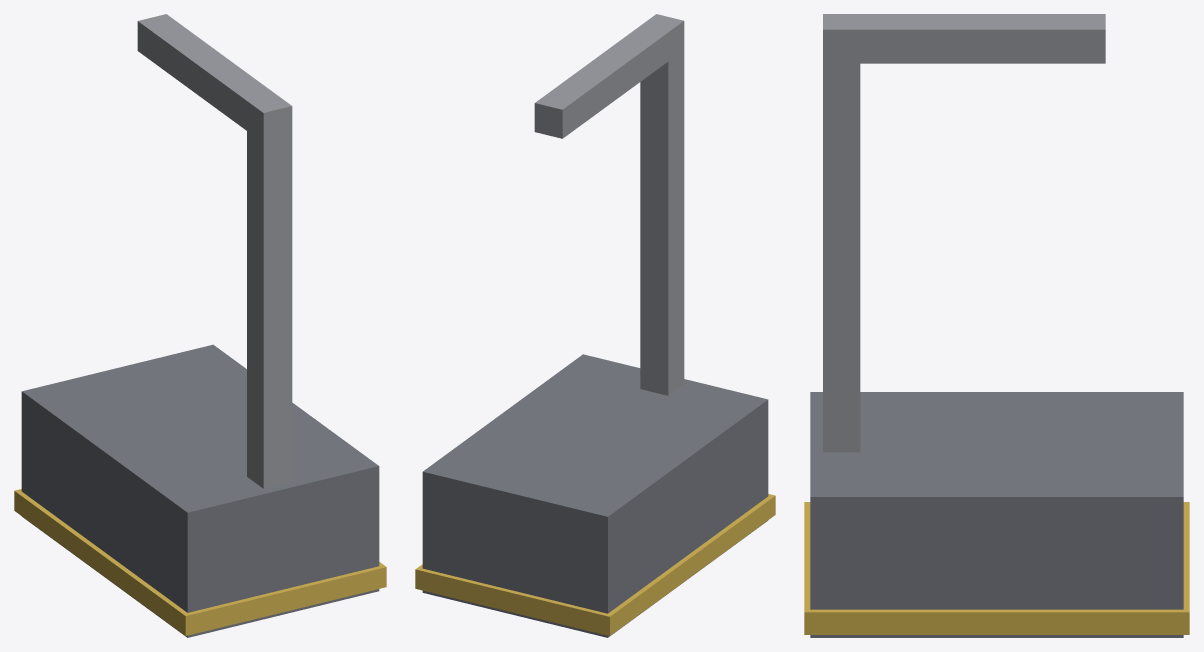
The model's file is AMR.glb.
3 views of the same model, side by side, from view 1: azimuth 30°, elevation 25°; view 2: azimuth 150°, elevation 25°; view 3: azimuth 270°, elevation 25° (orthographic). The views are drawn at different scales.
Visible parts, largest first — view 1: AMR_Body, AMR_Mast, AMR_Bumper, AMR_Boom; view 2: AMR_Body, AMR_Mast, AMR_Bumper, AMR_Boom; view 3: AMR_Body, AMR_Mast, AMR_Boom, AMR_Bumper.
Part boxes in pixels (x1,y1,x2,y2): AMR_Body: [21, 344, 379, 637]; AMR_Mast: [247, 94, 292, 488]; AMR_Bumper: [14, 489, 386, 635]; AMR_Boom: [137, 14, 284, 141]; AMR_Body: [422, 354, 768, 637]; AMR_Mast: [640, 14, 684, 395]; AMR_Bumper: [415, 494, 775, 635]; AMR_Boom: [534, 15, 680, 138]; AMR_Body: [810, 392, 1183, 637]; AMR_Mast: [823, 14, 860, 452]; AMR_Boom: [826, 14, 1105, 63]; AMR_Bumper: [804, 502, 1189, 634].
Size of the model in its own units: 0.42 by 1 by 0.62.
